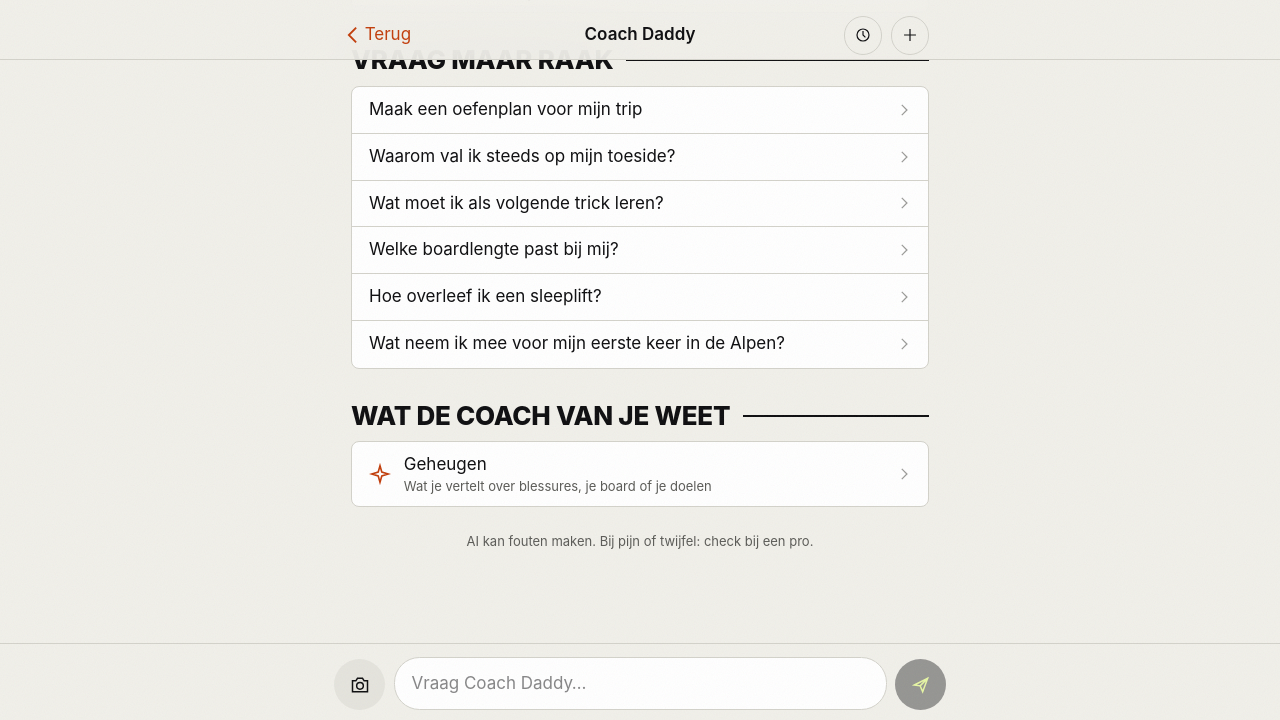
Test: gesprek › fout van de coach: melding, en wat er al stond blijft staan
This screenshot has width=1280, height=720.
(page scrolled)
Step 1. Click the button "Hoe overleef ik een sleeplift?" → [485, 296], box [352, 274, 928, 321]
(page scrolled)
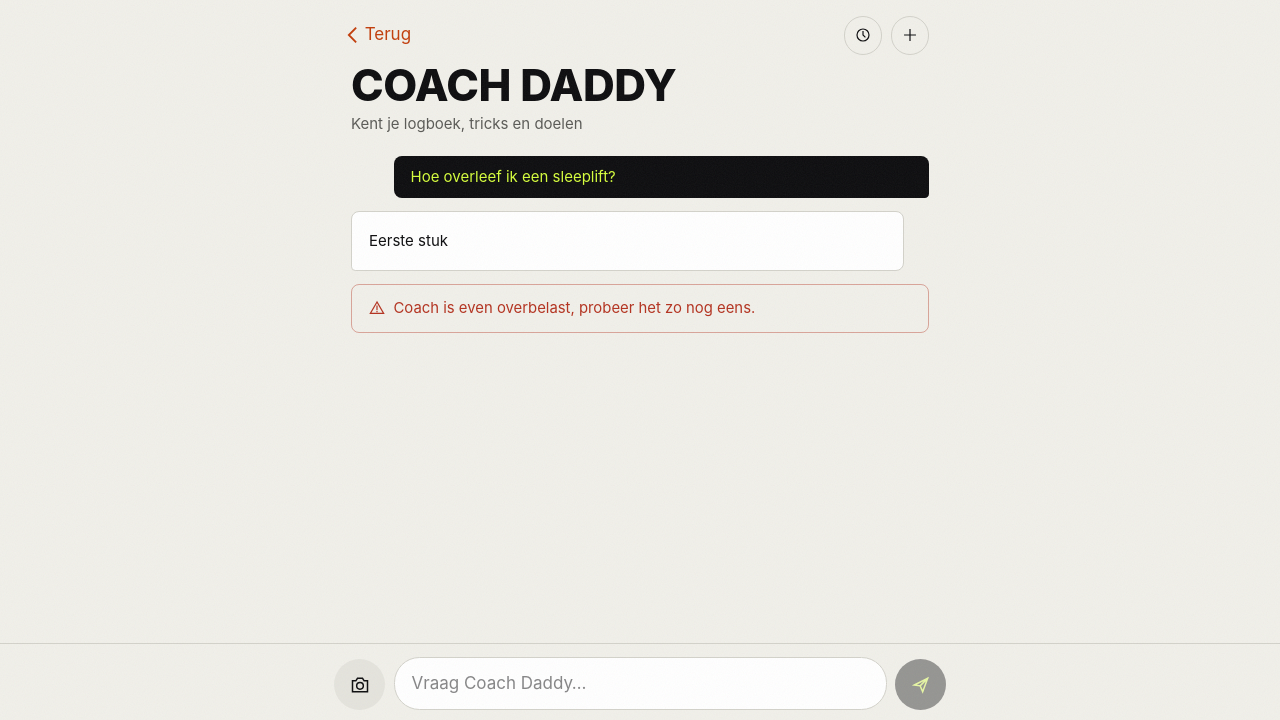
Now the text "Coach is even overbelast, probeer het zo nog eens." is shown, box [351, 284, 929, 333]
Now the text "Eerste stuk" is shown, box [369, 231, 448, 250]
